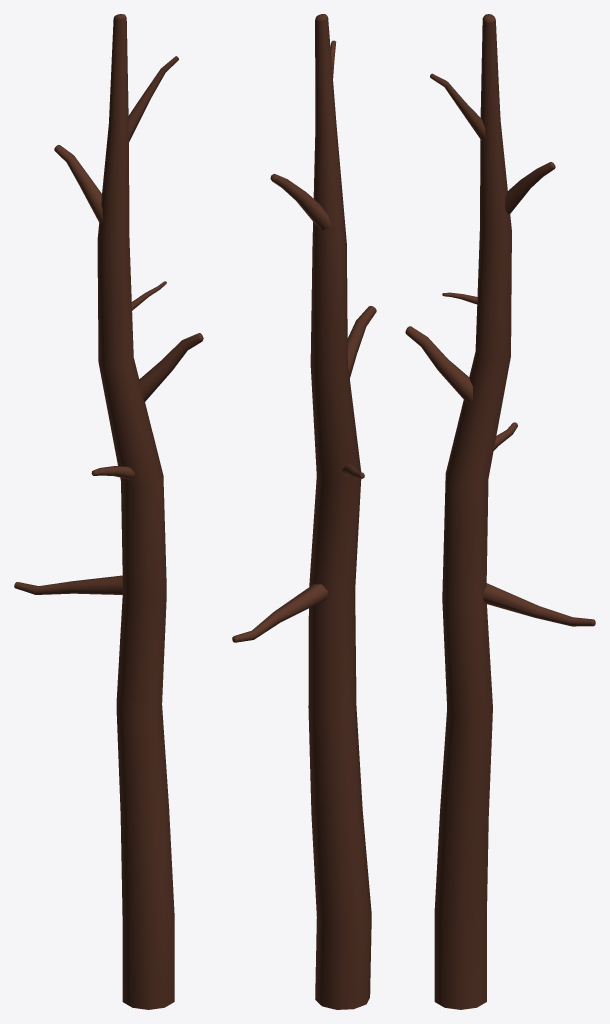
The model's file is PineTreeB4.fbx.
3 renders of one model, left to right at view 1: azimuth 90°, elevation 25°; view 2: azimuth 150°, elevation 25°; view 3: azimuth 270°, elevation 25°, orthographic.
Parts seen in each view (by area): view 1: trunk; view 2: trunk; view 3: trunk.
Part boxes in pixels (x1,y1,x2,y2): trunk: [14, 14, 203, 1009]; trunk: [232, 14, 376, 1009]; trunk: [405, 14, 595, 1009].
Bounding box in the file's own units: 210 × 2153 × 376.
